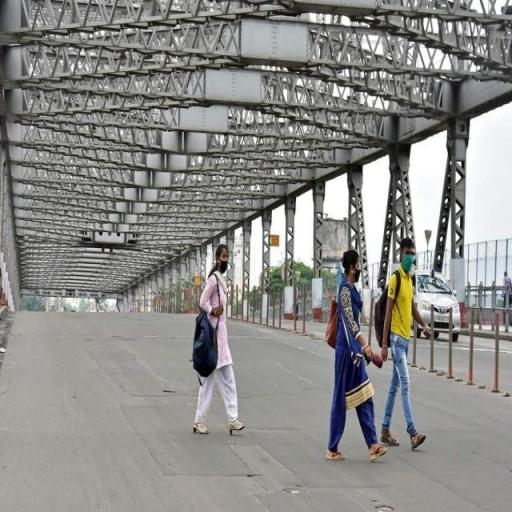Persona: (326, 252, 386, 460), (377, 236, 430, 450), (192, 242, 246, 438)
